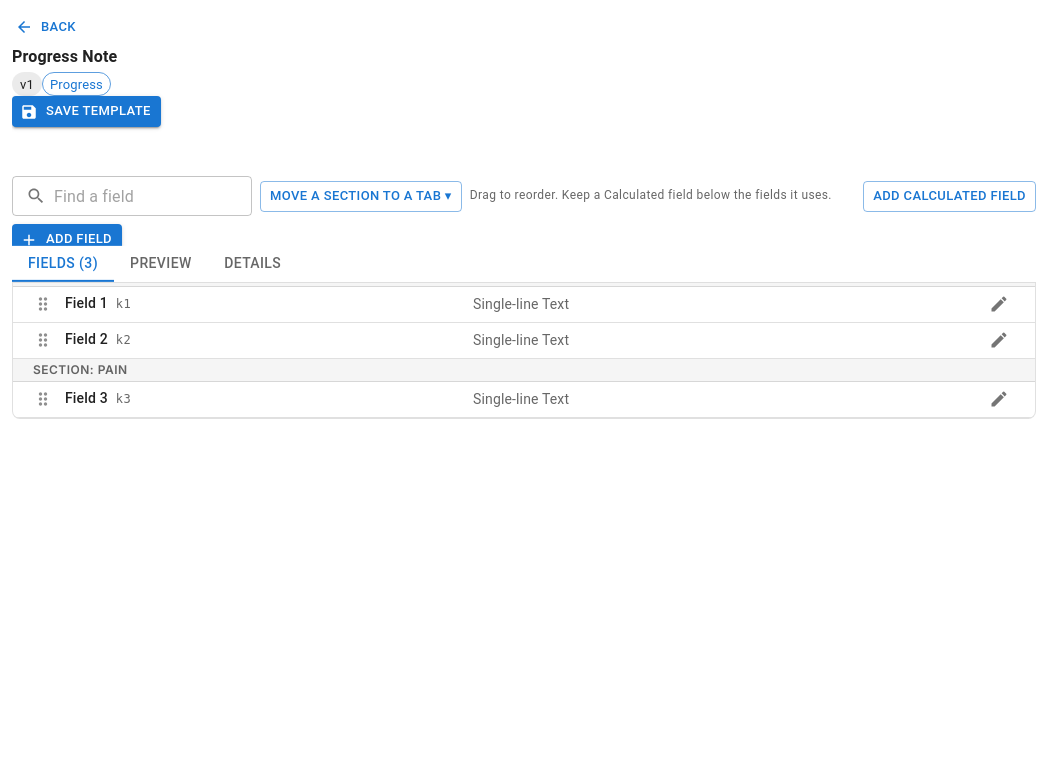
Scenario: editor: fields are compact rows grouped by section, one inline editor at a time, Remove field works
Expected: the element with test id "field-list" shows "Section: History", [12,263,1036,419]
Expected: the element with test id "field-list" shows "Section: Pain", [12,263,1036,419]
What coordinates should you click on to do the following:
click the button named "Edit Field 1"
I would click on:
 (999, 304)
Its box is [983,289,1015,319].
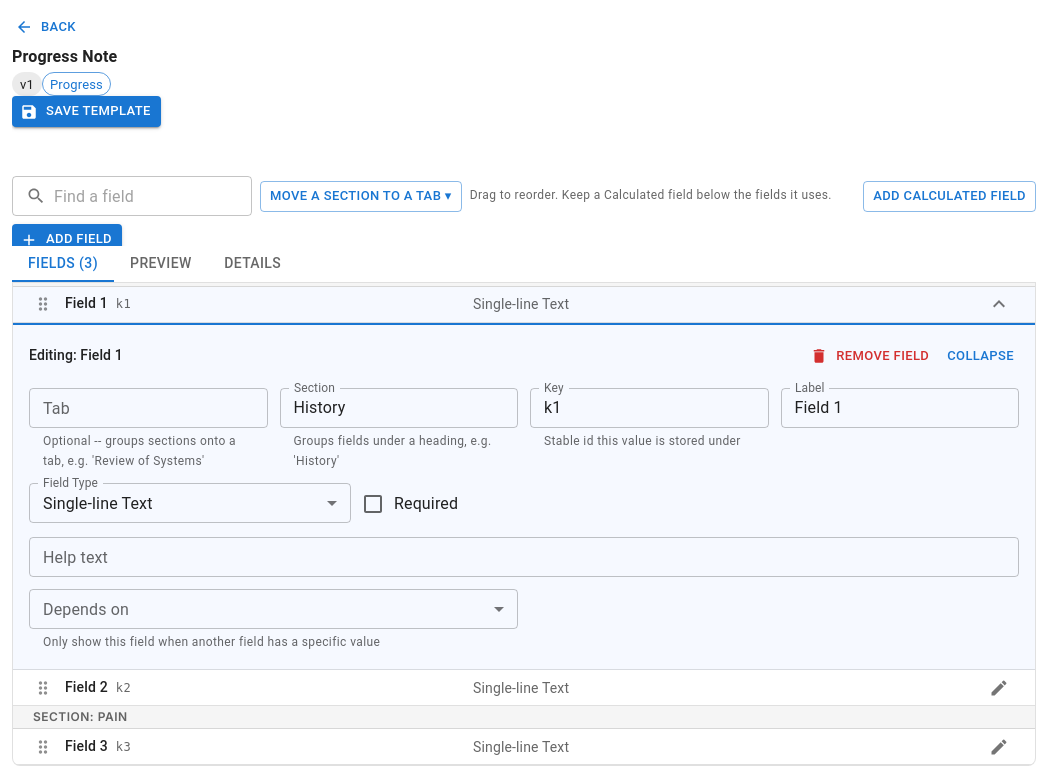
Now the heading "Editing: Field 1" is shown, box [29,347,123,363]
What coordinates should you click on to do the following:
click the button named "Edit Field 2"
I would click on:
 (999, 688)
Its box is [983,673,1015,703].
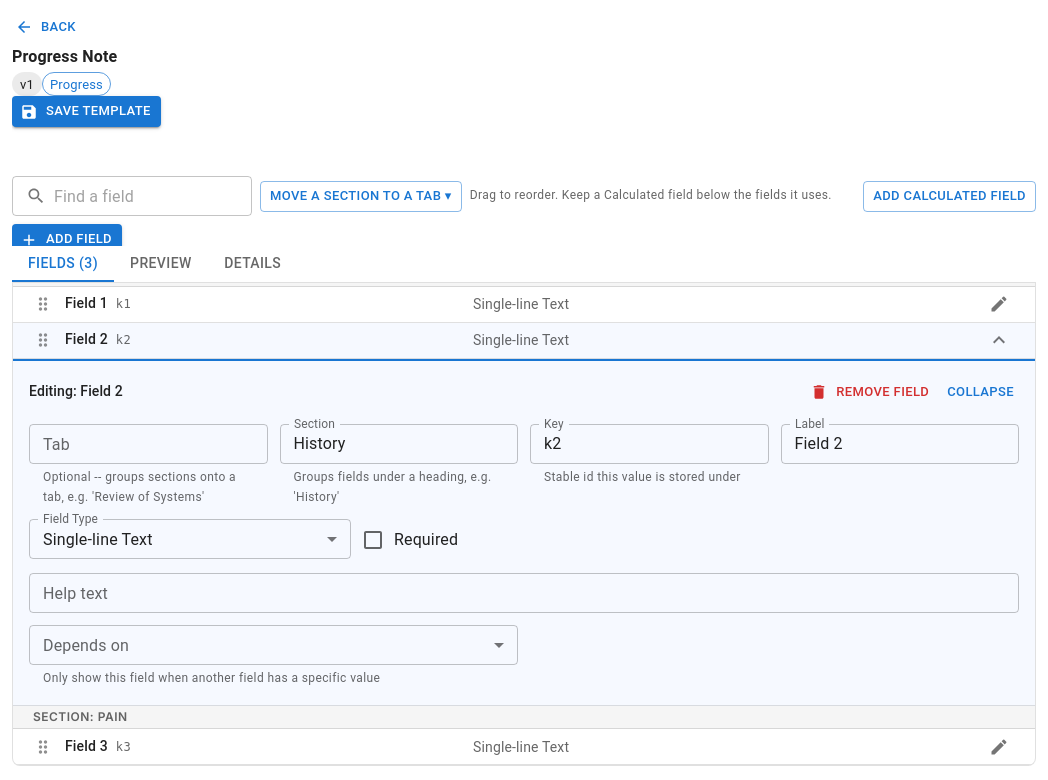
Now the heading "Editing: Field 2" is shown, box [29,383,123,399]
Now the heading "Editing: Field 1" is gone
What coordinates should you click on to do the following:
click the button "Remove field"
I would click on:
 (871, 392)
Its box is [807,377,934,408].
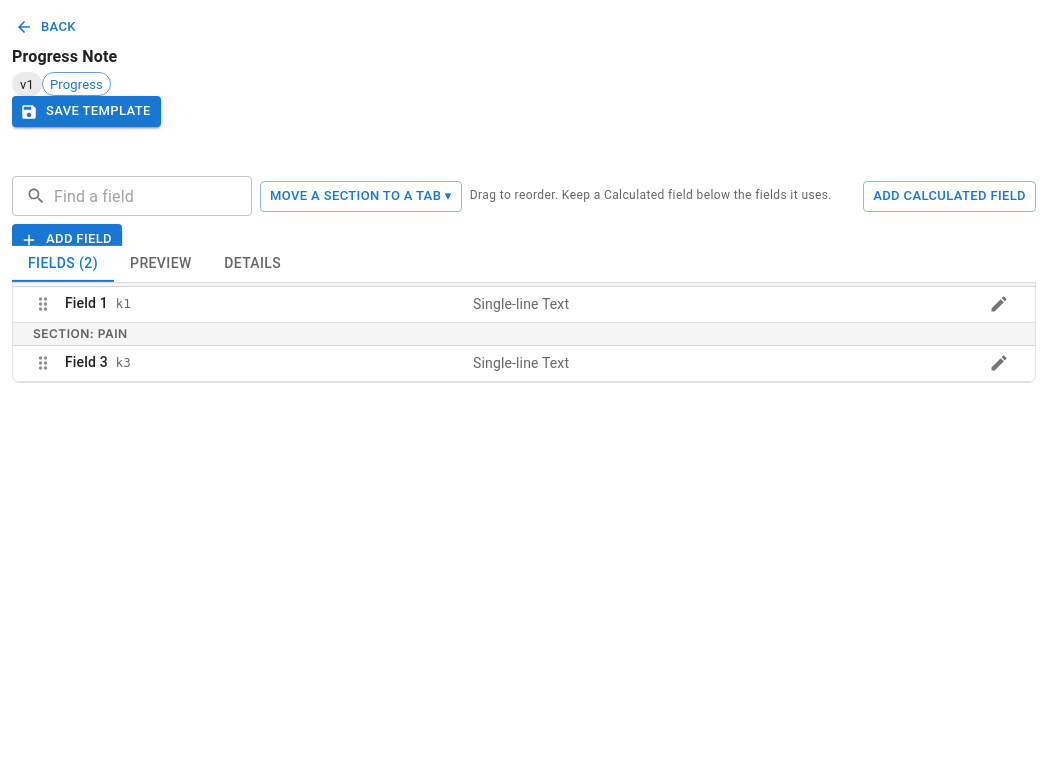
Now the tab "Fields (2)" is shown, box [12,246,114,282]
